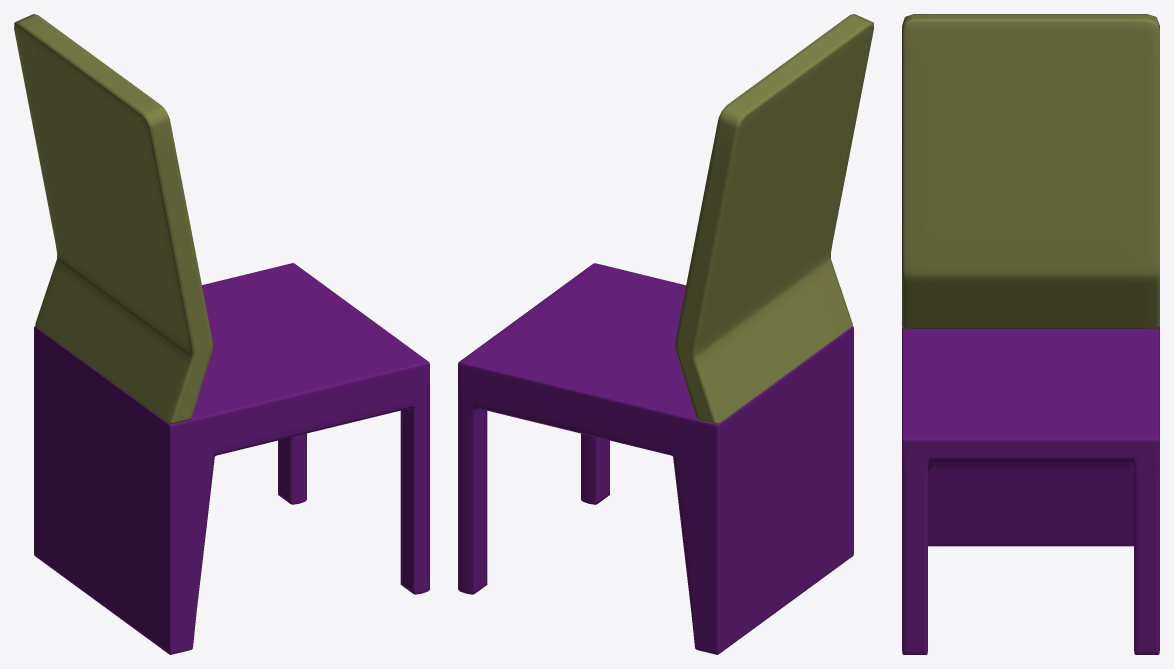
File: DiningChair.fbx
3 views of the same model, side by side, from view 1: azimuth 30°, elevation 25°; view 2: azimuth 150°, elevation 25°; view 3: azimuth 270°, elevation 25° (orthographic). The views are drawn at different scales.
Visible parts, largest first — view 1: DiningChair (×2); view 2: DiningChair (×2); view 3: DiningChair (×2).
Part boxes in pixels (x1,y1,x2,y2): DiningChair (×2): (14,14,429,654); DiningChair (×2): (458,14,873,654); DiningChair (×2): (902,14,1159,654).
Bounding box in the file's own units: 1.67 × 3.09 × 1.4.
